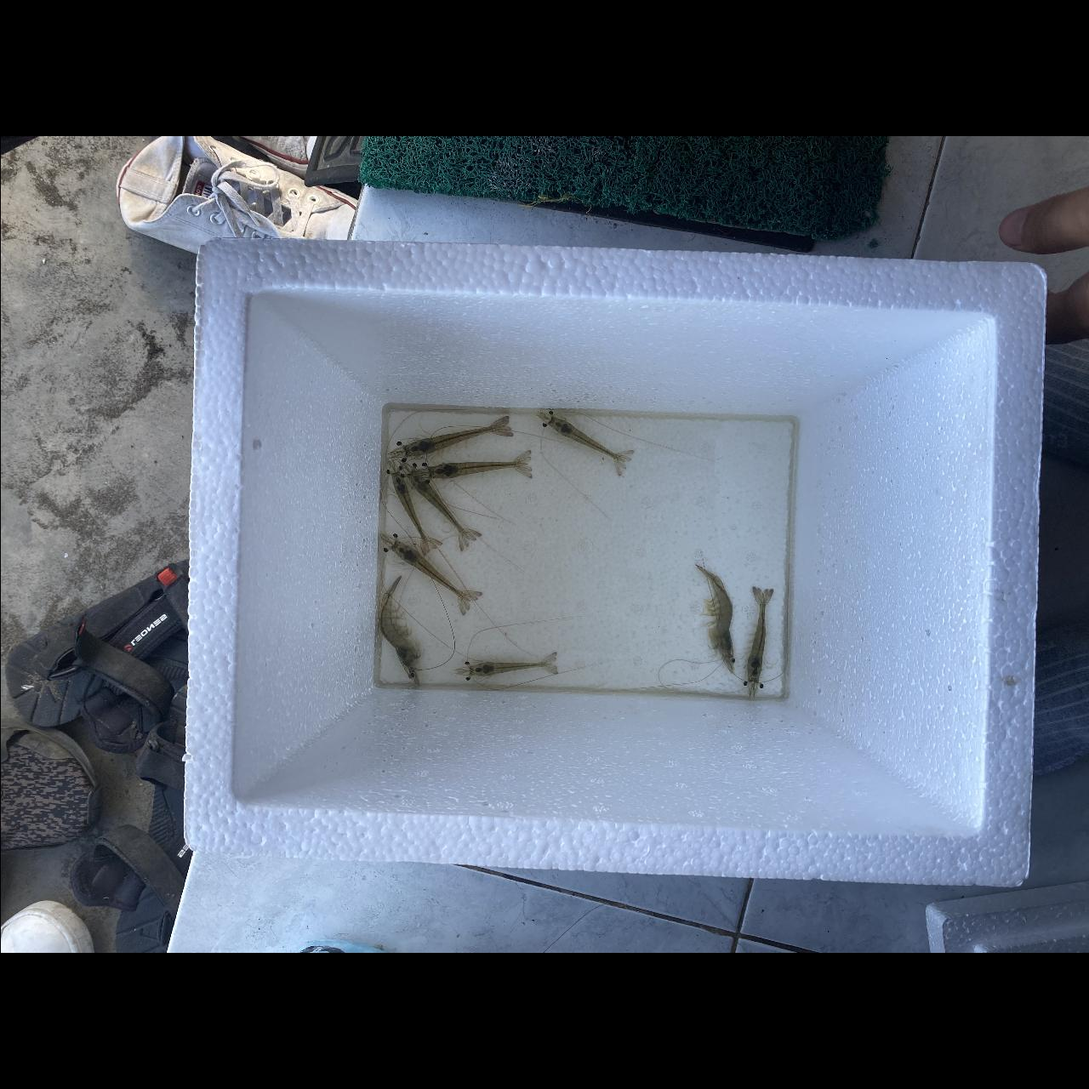side_shrimp: (694, 565, 732, 656), (378, 575, 412, 666)
top_shrimp: (392, 542, 469, 602), (409, 474, 469, 540), (550, 418, 625, 462), (406, 425, 506, 456), (392, 475, 428, 548), (429, 462, 528, 479), (747, 593, 765, 682), (470, 662, 551, 676)
